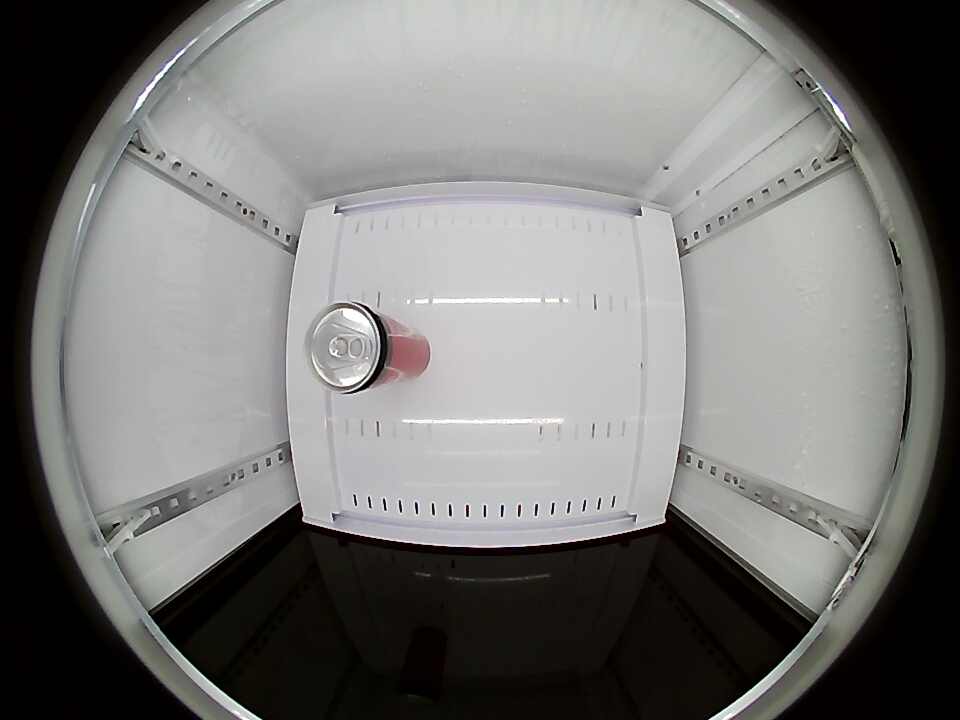lingdukele: (307, 301, 401, 395)
